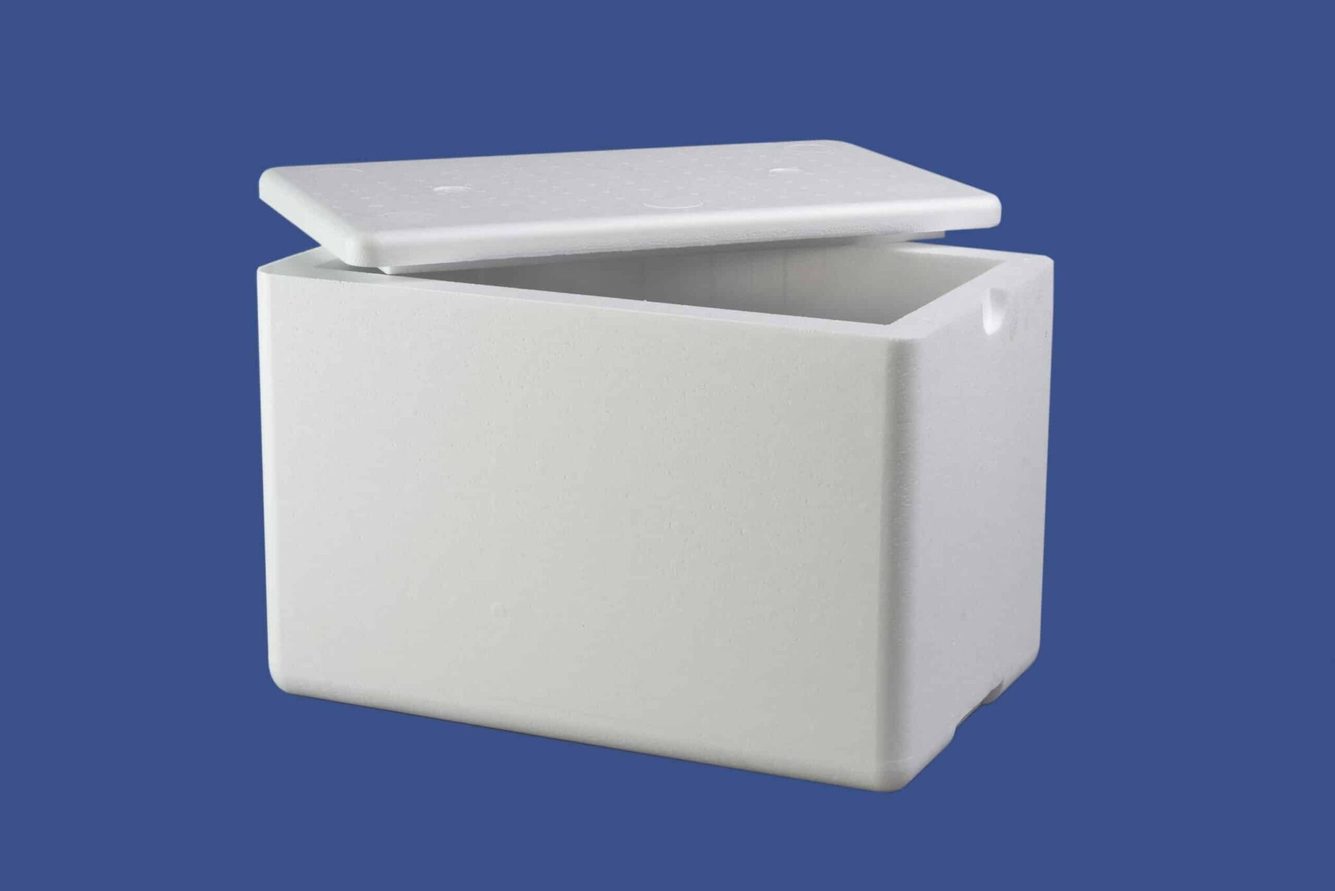泡沫箱: (257, 141, 1052, 790)
